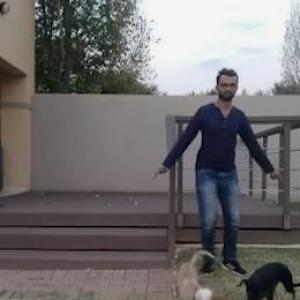land: (153, 70, 276, 282)
